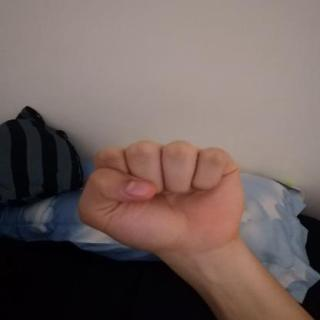SAD: (61, 128, 270, 270)
